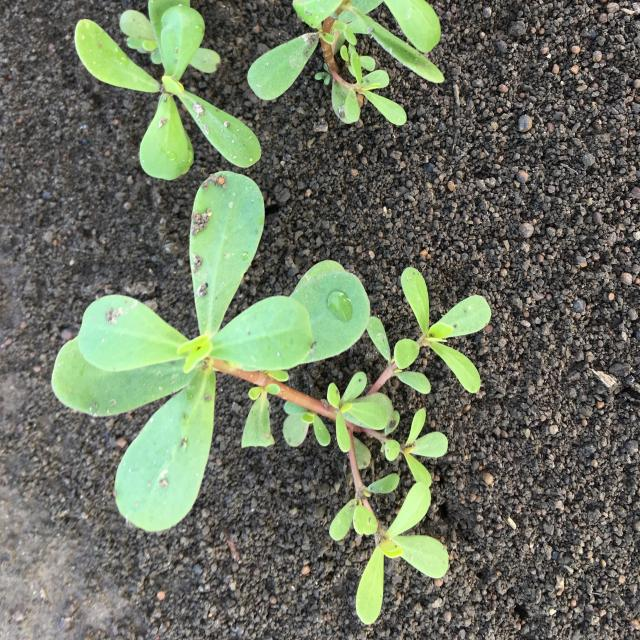Purslane: (51, 171, 491, 625), (75, 0, 262, 181), (247, 0, 445, 126)
